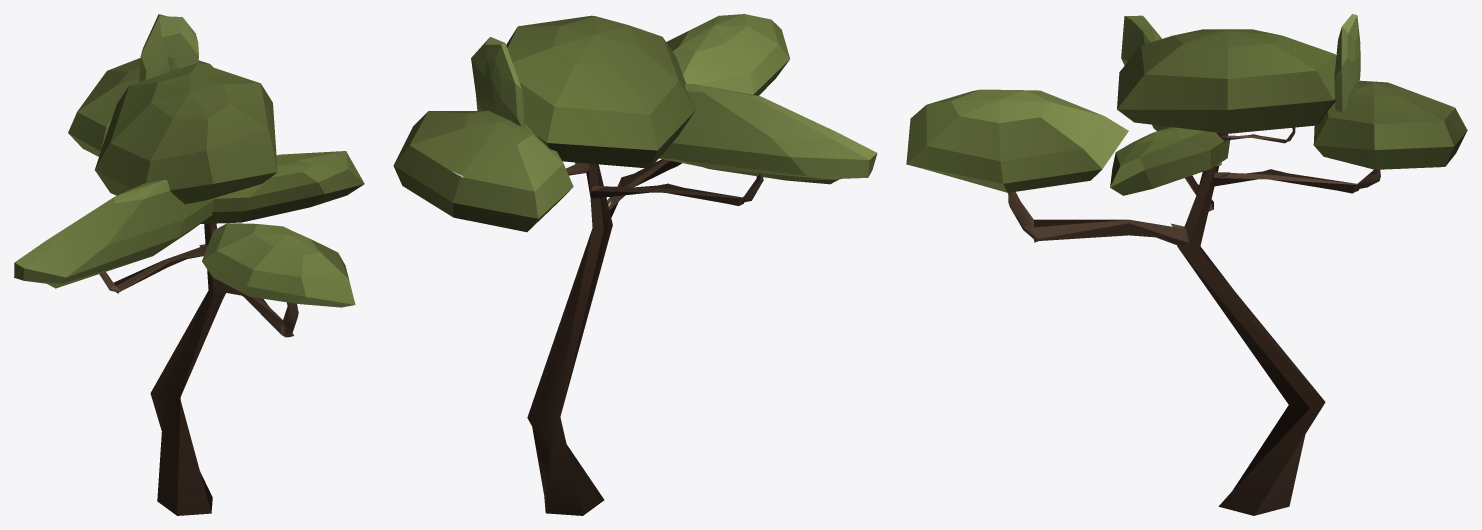
Rendered from arbol1contextura.fbx.
3 views of the same model, side by side, from view 1: azimuth 30°, elevation 25°; view 2: azimuth 150°, elevation 25°; view 3: azimuth 270°, elevation 25° (orthographic). The views are drawn at different scales.
Parts seen in each view (by area): view 1: pSphere13; view 2: pSphere13; view 3: pSphere13.
Boxes of the visible parts, <box> form: pSphere13: <box>14,14,364,515</box>; pSphere13: <box>393,14,877,515</box>; pSphere13: <box>906,14,1467,515</box>.
Size of the model in its own units: 8.69 by 11.18 by 11.42.
1 material, 1 textured.
